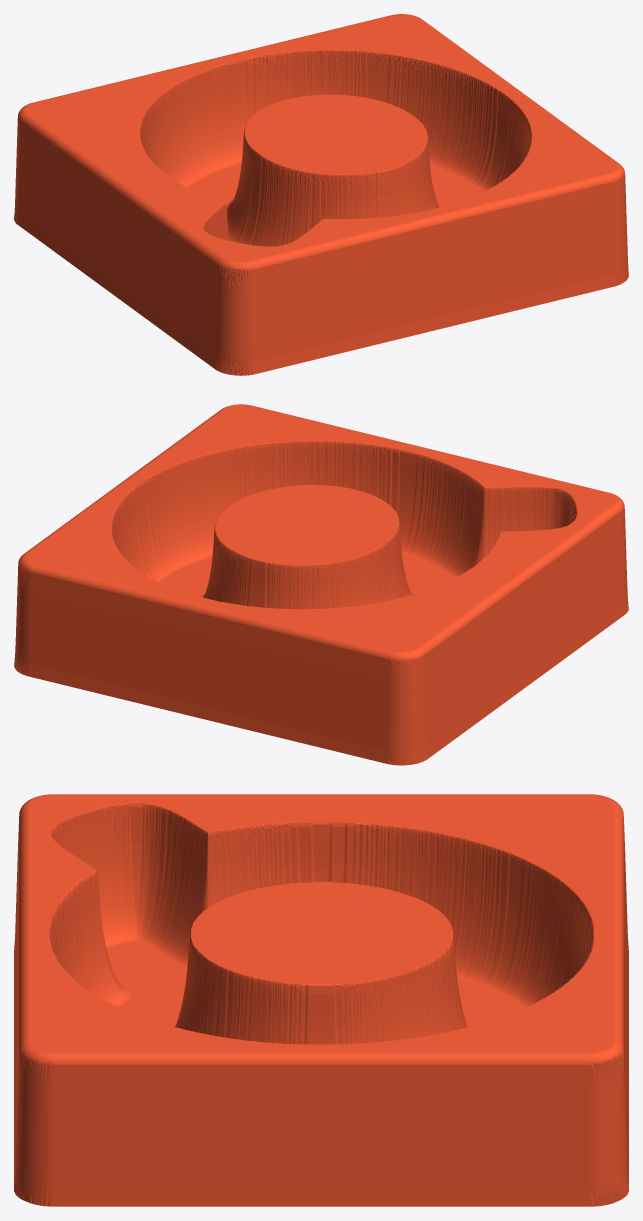
File: mold.glb
3 renders of one model, top to bottom at view 1: azimuth 30°, elevation 25°; view 2: azimuth 150°, elevation 25°; view 3: azimuth 270°, elevation 25°, orthographic. The views are drawn at different scales.
Parts seen in each view (by area): view 1: geometry_0; view 2: geometry_0; view 3: geometry_0.
Part boxes in pixels (bbox=[...]): geometry_0: bbox=[14, 14, 628, 375]; geometry_0: bbox=[14, 404, 628, 765]; geometry_0: bbox=[14, 794, 628, 1206].
Size of the model in its own units: 0.1435 by 0.0365 by 0.1377.
